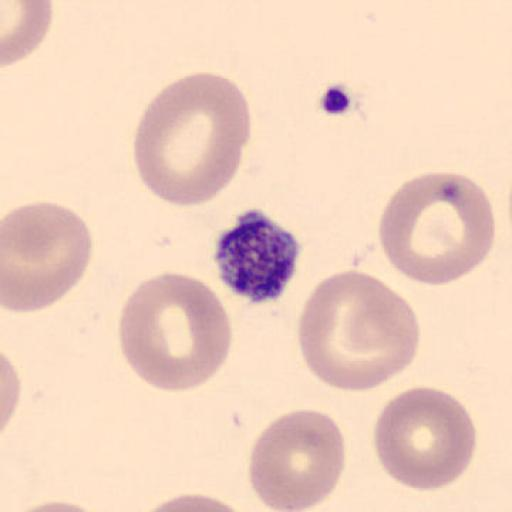Platelet: (211, 207, 304, 305)
RBC: (132, 70, 252, 208), (296, 268, 421, 394), (117, 269, 233, 395), (378, 169, 497, 287), (372, 384, 478, 493), (246, 407, 347, 511), (3, 200, 94, 314), (2, 0, 55, 71), (132, 492, 255, 512), (1, 348, 22, 440), (4, 499, 114, 512)
